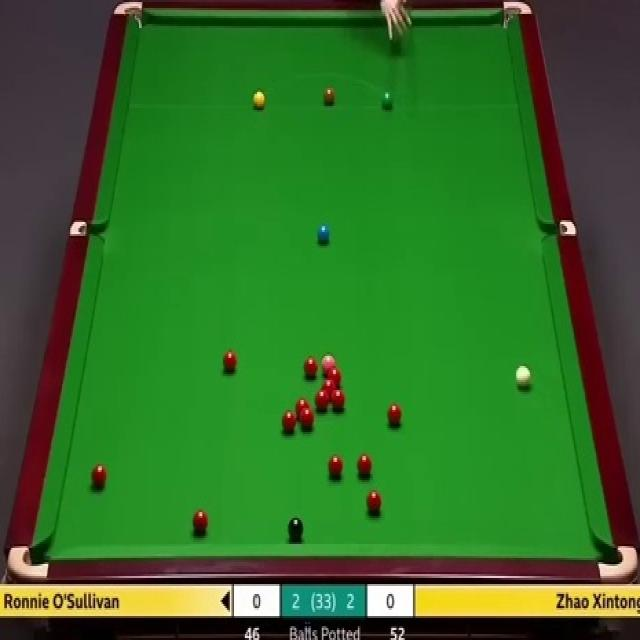black-ball: (288, 514, 304, 542)
blue-ball: (316, 222, 330, 246)
brown-ball: (322, 88, 334, 106)
green-ball: (382, 90, 393, 110)
pink-ball: (321, 354, 337, 371)
red-ball: (90, 461, 108, 489), (192, 510, 210, 535), (365, 490, 382, 516), (303, 355, 319, 381), (300, 407, 316, 429), (356, 454, 372, 476), (328, 455, 344, 477), (388, 404, 403, 426), (222, 349, 236, 372), (282, 411, 296, 432), (331, 390, 346, 409), (314, 391, 329, 408), (295, 396, 309, 414), (320, 379, 338, 392), (326, 369, 344, 380)
white-ball: (515, 362, 531, 389)
yellow-ball: (252, 89, 267, 110)
